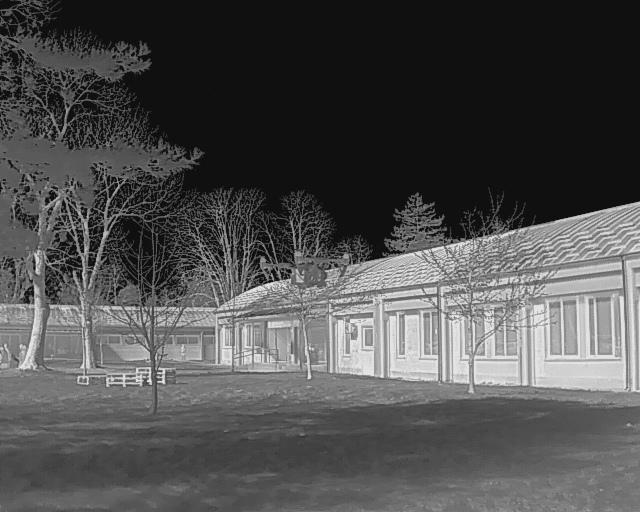drone: (248, 237, 363, 305)
